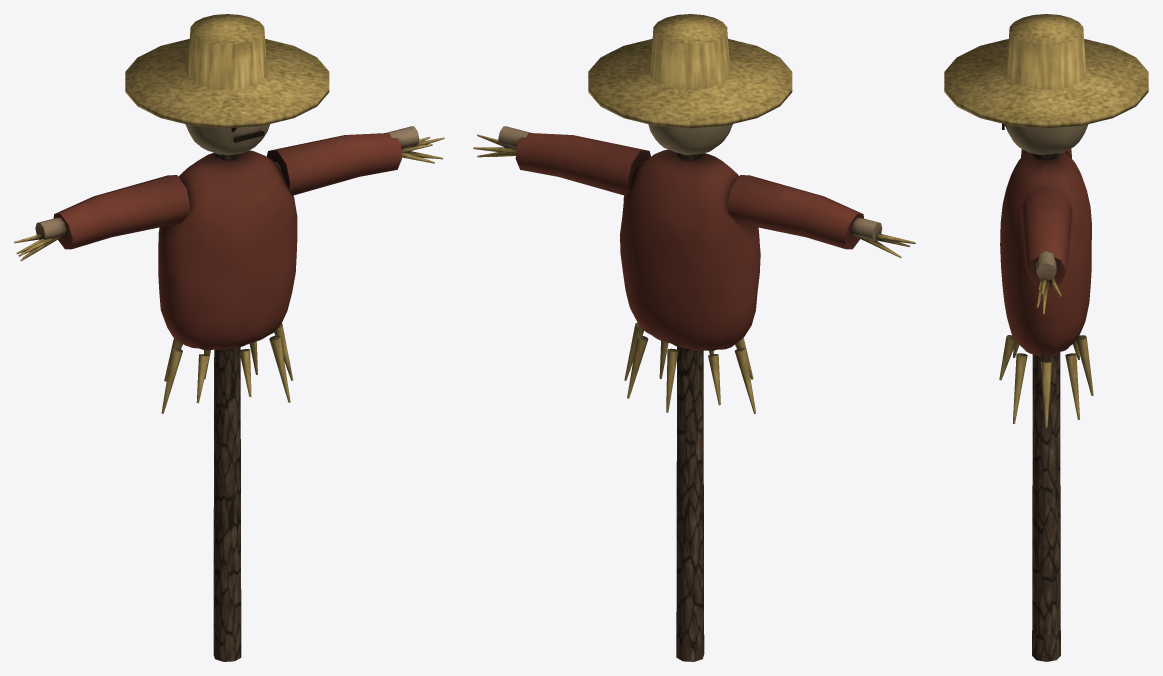
The model's file is cenario_espantalho.glb.
The picture shows the model from 3 angles, left to right: view 1: azimuth 30°, elevation 25°; view 2: azimuth 150°, elevation 25°; view 3: azimuth 270°, elevation 25°; orthographic projection.
Visible parts, largest first — view 1: cenario_espantalho_tronco; view 2: cenario_espantalho_tronco; view 3: cenario_espantalho_tronco.
Boxes of the visible parts, x1=… form: cenario_espantalho_tronco: x1=14, y1=14, x2=444, y2=661; cenario_espantalho_tronco: x1=473, y1=14, x2=915, y2=661; cenario_espantalho_tronco: x1=944, y1=14, x2=1148, y2=661.
Bounding box in the file's own units: 1.73 × 2.42 × 0.7091.
1 material, 1 textured.
